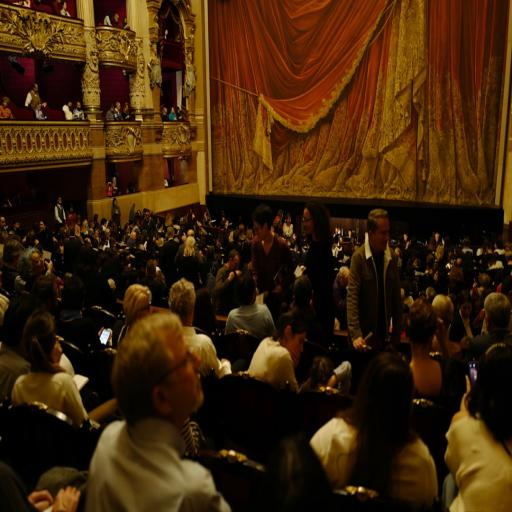face: (161, 332, 203, 420), (283, 326, 306, 367), (369, 218, 389, 253), (31, 252, 45, 275), (303, 209, 314, 235)
